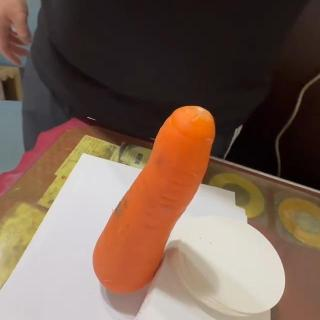carrot: (91, 105, 215, 295)
